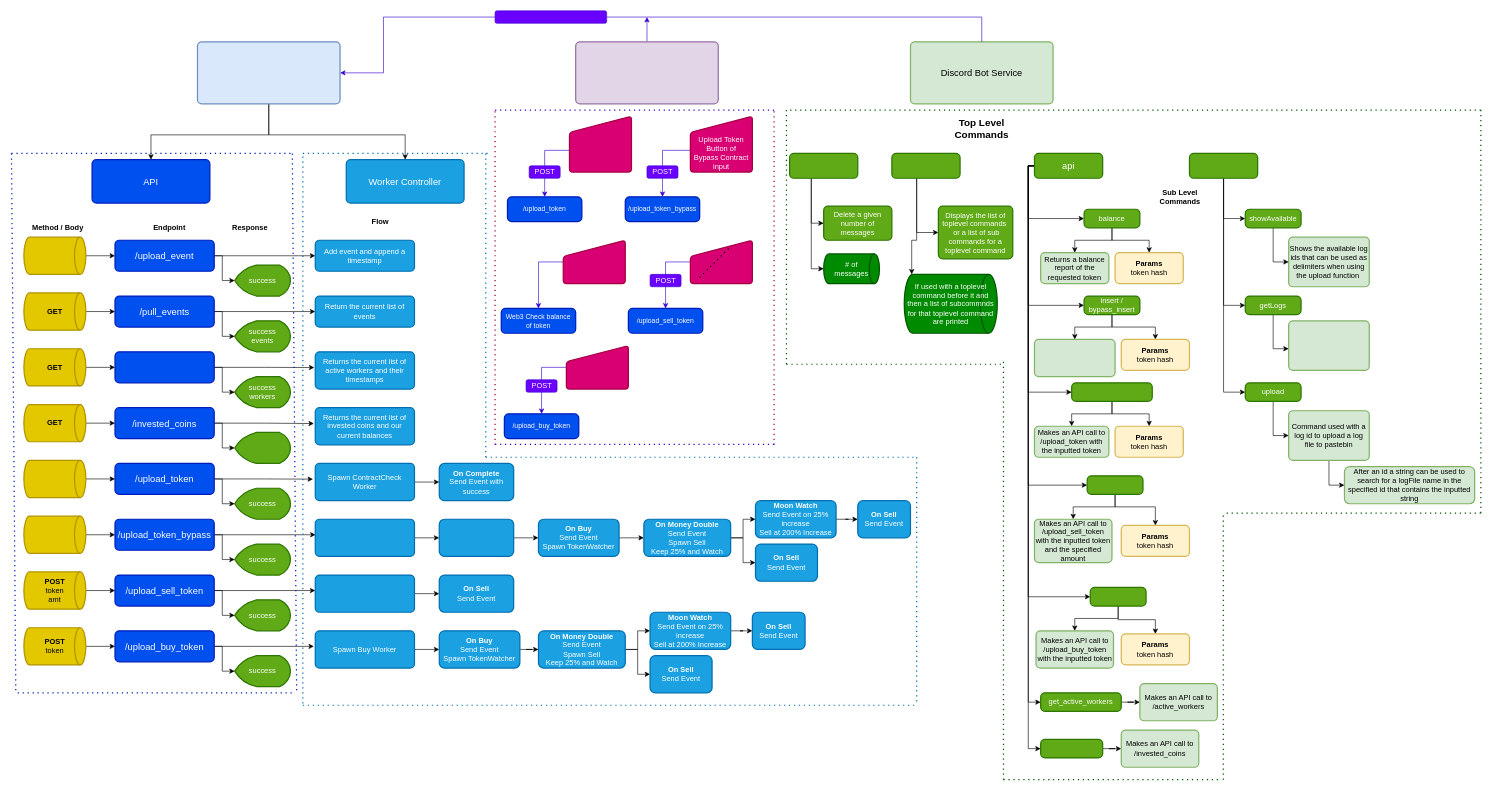
Image size: 1492x792. Some labels were removed from this diagram. The centre of each missing label's shape, as x and y in pixels:
"/active_workers" belongs at point 164,367.
"buy" belongs at point 1117,596.
"Buy Button Clicked" belongs at point 597,367.
"contract_check_insert" belongs at point 1112,392.
"Cryptovesting Manager" belongs at point 268,72.
"delete" belongs at point 823,166.
"Front End Webserver" belongs at point 647,72.
"help" belongs at point 925,166.
"HTTP Request Communication" belongs at point 550,16.
"invested_coins" belongs at point 1071,748.
"log" belongs at point 1223,166.
"Makes an API call to /upload_token_bypass with the inputted token" belongs at point 1074,358.
"On Mint Send Event Spawn Buy Worker" belongs at point 476,537.
"POST contract_hash" belongs at point 54,534.
"POST message category" belongs at point 54,255.
"POST token_name bscscan_link contract_hash" belongs at point 54,478.
"sell" belongs at point 1114,485.
"Sell Button clicked" belongs at point 721,261.
"Shows all log file names present in the Cryptovesting environment" belongs at point 1329,345.
"Spawn Sell Worker" belongs at point 364,593.
"Spawn Sniper Worker" belongs at point 364,537.
"success coins" belongs at point 262,448.
"Token inputted in Token to Sell" belongs at point 594,261.
"Upload Token Button of ContractCheck input" belongs at point 600,143.
